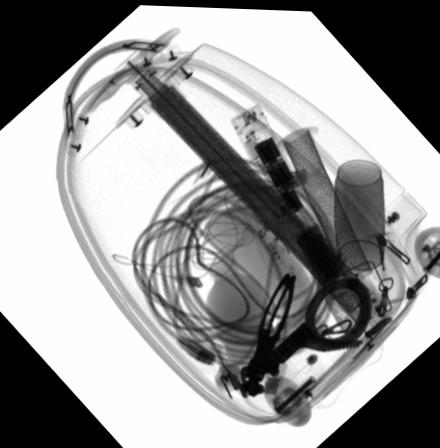Baton: (228, 100, 345, 285)
HandCuffs: (237, 269, 369, 394)
